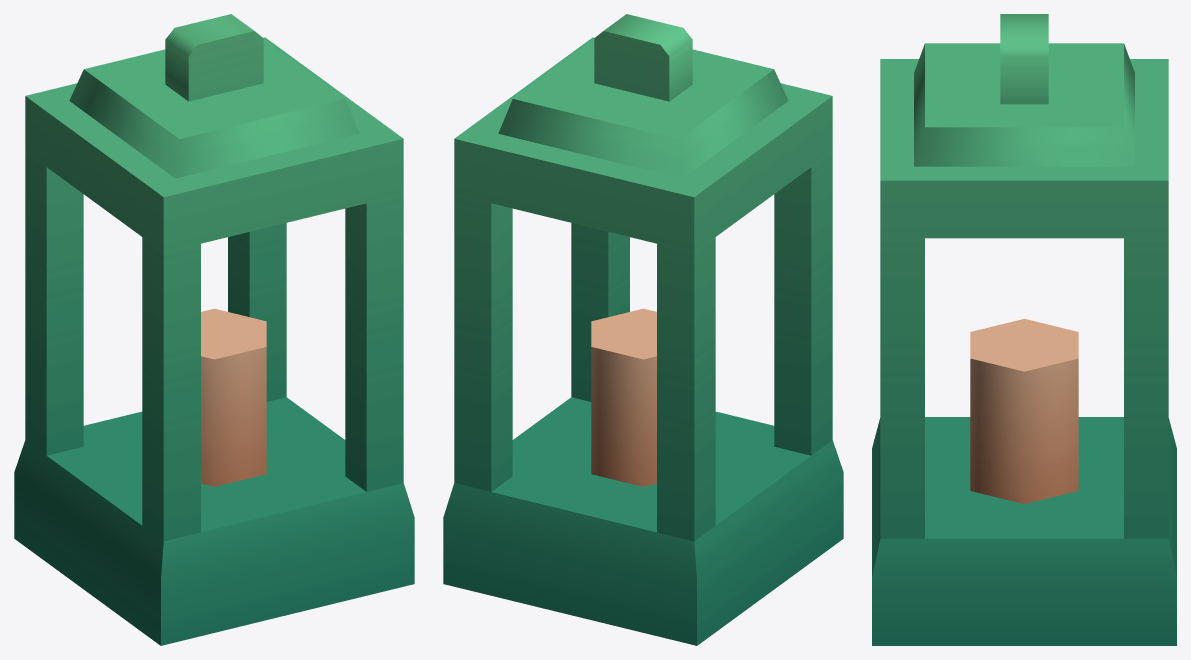
Rendered from lantern-candle.glb.
The picture shows the model from 3 angles, left to right: view 1: azimuth 30°, elevation 25°; view 2: azimuth 150°, elevation 25°; view 3: azimuth 270°, elevation 25°; orthographic projection. The views are drawn at different scales.
Visible parts, largest first — view 1: Asset3DLoader.sceneRoot; view 2: Asset3DLoader.sceneRoot; view 3: Asset3DLoader.sceneRoot.
Part boxes in pixels (x1,y1,x2,y2): Asset3DLoader.sceneRoot: (14, 14, 414, 645); Asset3DLoader.sceneRoot: (443, 14, 843, 645); Asset3DLoader.sceneRoot: (872, 14, 1176, 645).
Size of the model in its own units: 0.1459 by 0.2923 by 0.1459.
Materials: 1 (1 with a texture image).
